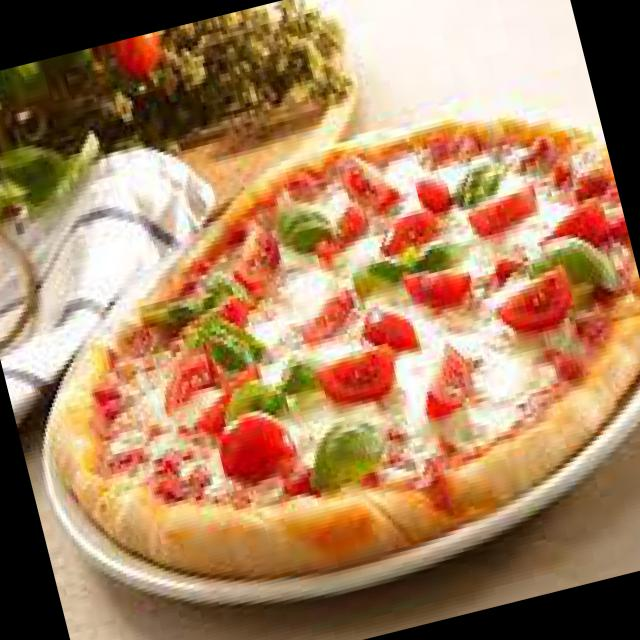pizza: (0, 80, 639, 639)
